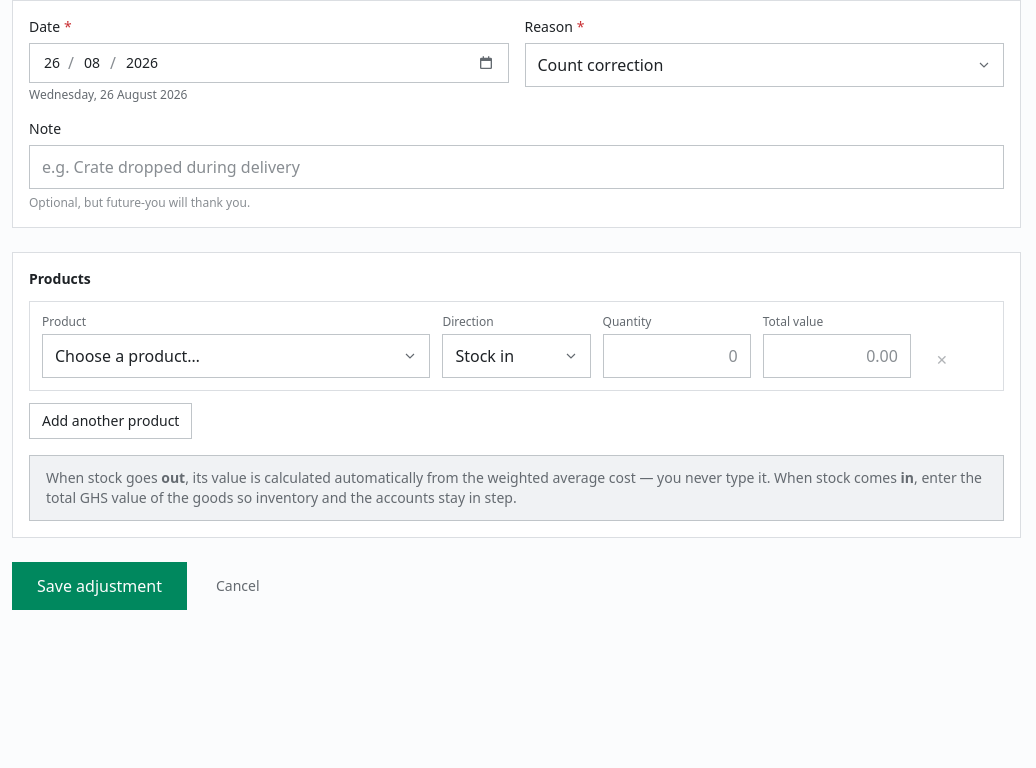
Scenario: removing a line from a stock adjustment › is reachable by name and takes away only the line it belongs to
Expected: the button named "Remove line 1" is disabled, [923,342,961,378]
Click the button "Add another product" at (111, 421), box [29,403,192,439]
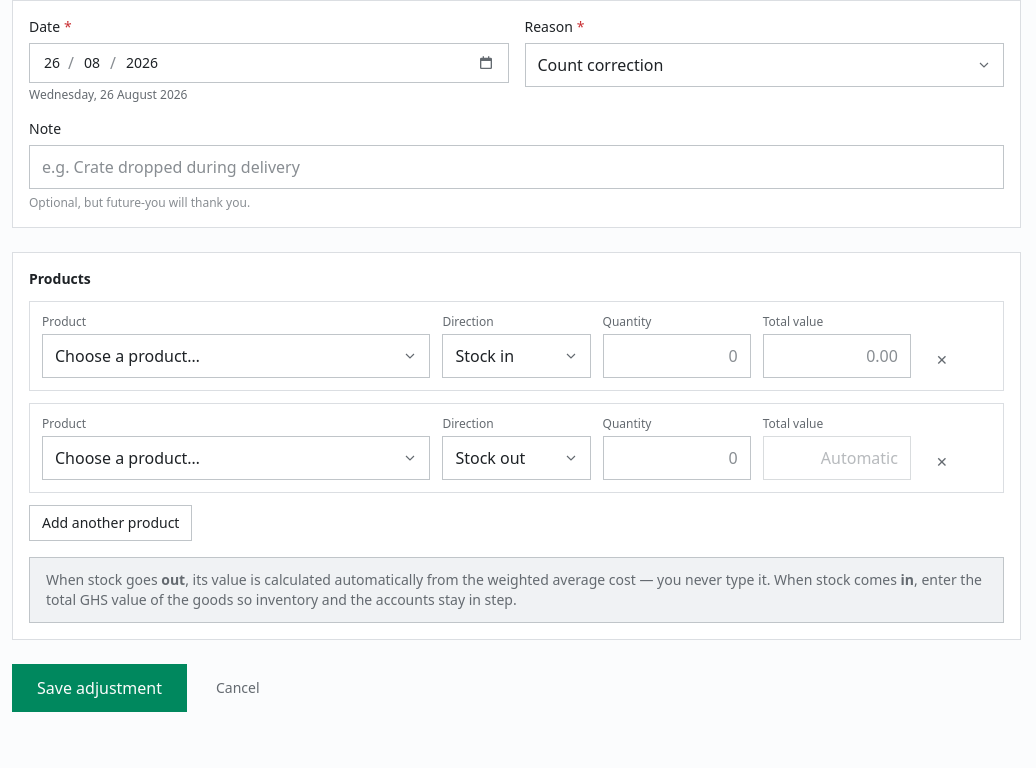
Expected: the button named "Remove line 2" is shown
Click the button named "Remove line 2" at (942, 462), box [923,444,961,480]
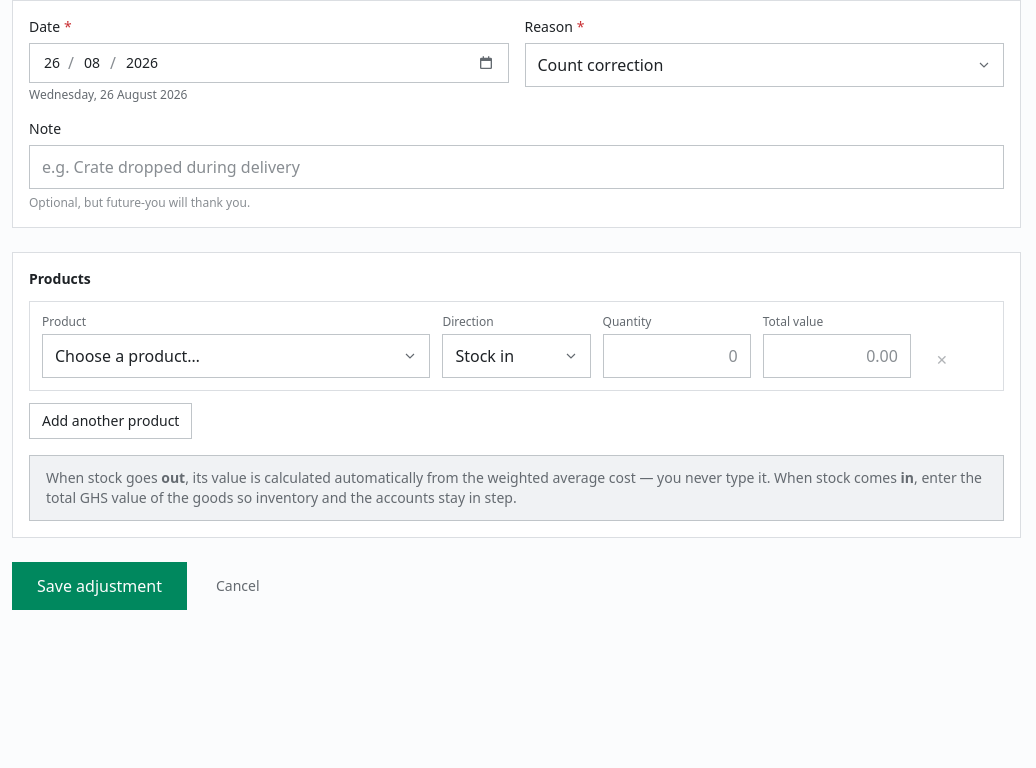
Expected: the button named "Remove line 1" is disabled, [923,342,961,378]
